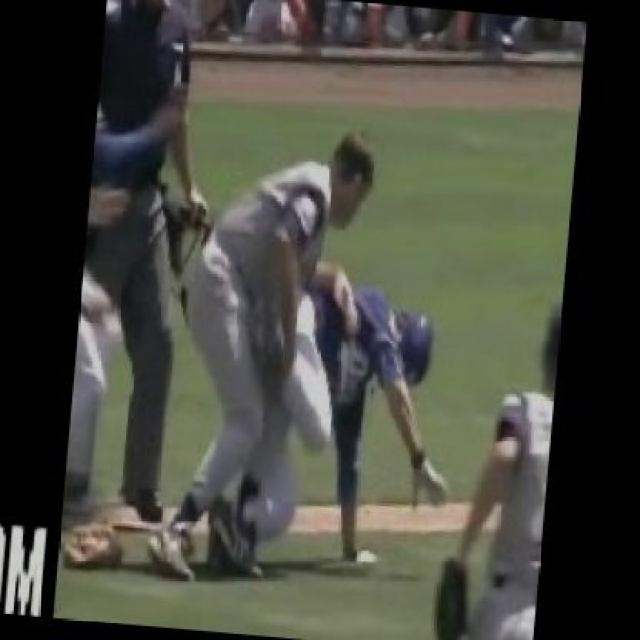fight: (145, 126, 451, 584)
